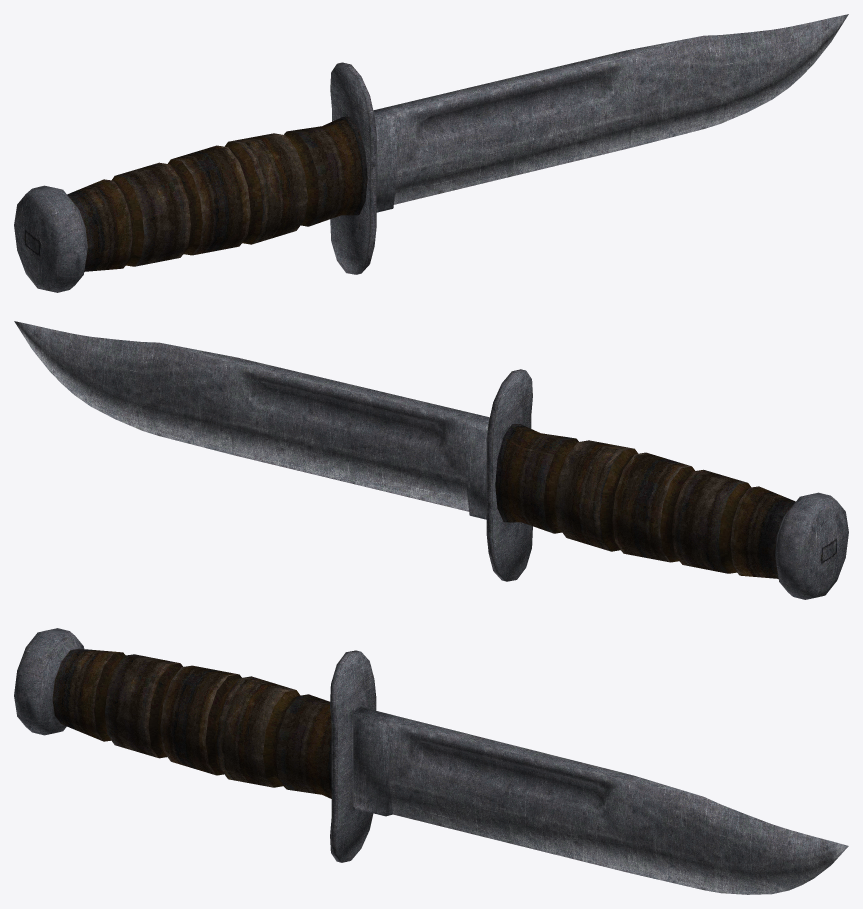
The model's file is combat-knife.glb.
The picture shows the model from 3 angles, top to bottom: view 1: azimuth 30°, elevation 25°; view 2: azimuth 150°, elevation 25°; view 3: azimuth 330°, elevation 25°; orthographic projection.
Parts seen in each view (by area): view 1: Combat_Knife; view 2: Combat_Knife; view 3: Combat_Knife.
Boxes of the visible parts, x1,y1,x2,y2 form: Combat_Knife: (14,14,848,292); Combat_Knife: (14,321,848,599); Combat_Knife: (14,628,848,894).
Bounding box in the file's own units: 30.52 × 7.4 × 3.3.
Materials: 1 (1 with a texture image).
